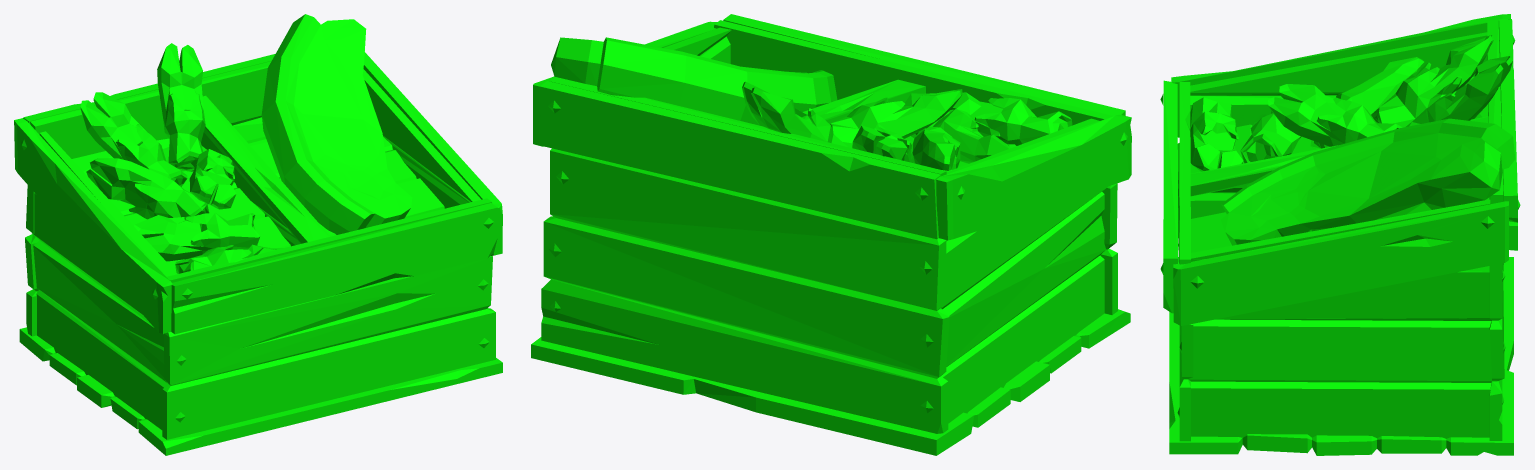
Rendered from SM_Crate_Small_Beef_Chunk_Trotters_Fantasy.fbx.
The picture shows the model from 3 angles, left to right: view 1: azimuth 30°, elevation 25°; view 2: azimuth 150°, elevation 25°; view 3: azimuth 270°, elevation 25°; orthographic projection. The views are drawn at different scales.
Visible parts, largest first — view 1: crate-small-beef-chunk-trotters-fantasy; view 2: crate-small-beef-chunk-trotters-fantasy; view 3: crate-small-beef-chunk-trotters-fantasy.
Part boxes in pixels (box(x1,y1,x2,y2)): crate-small-beef-chunk-trotters-fantasy: box(14, 14, 502, 455); crate-small-beef-chunk-trotters-fantasy: box(531, 14, 1131, 455); crate-small-beef-chunk-trotters-fantasy: box(1160, 14, 1520, 455).
Bounding box in the file's own units: 1.06 × 0.7853 × 0.8418.
